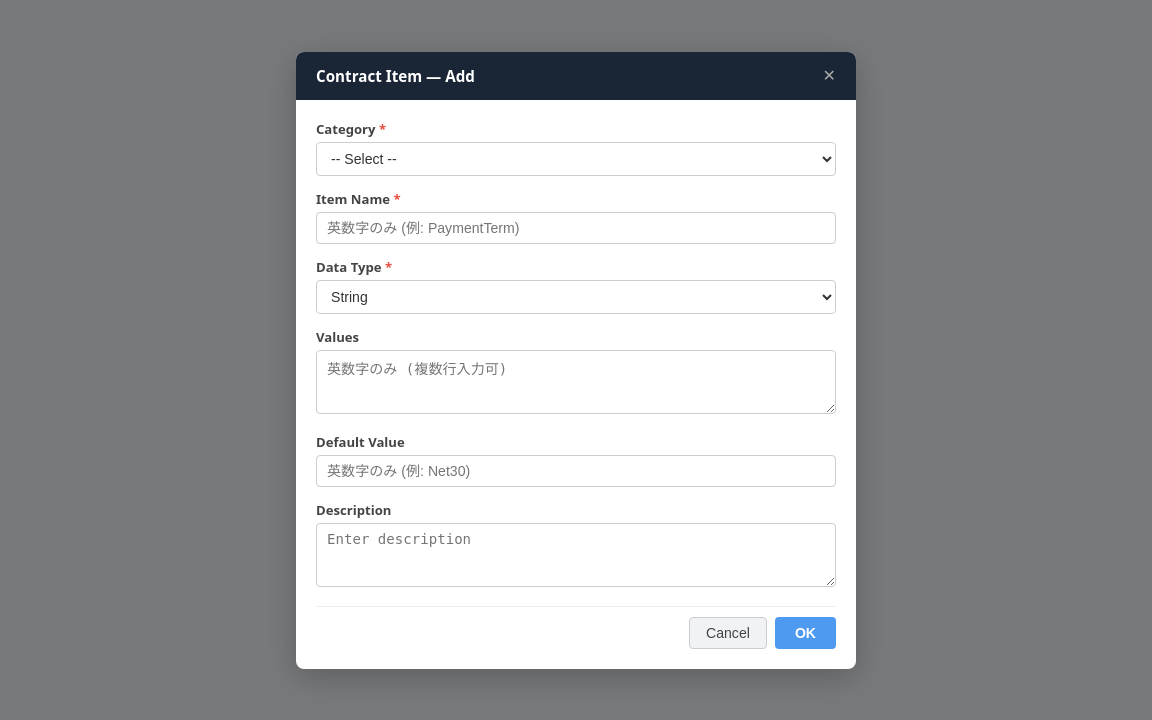
Scenario: ContractItemModal › shows required error for empty item name
The image size is (1152, 720).
Select "Contract" in the dropdown below "Category" at (576, 158), box [316,142,836,176]
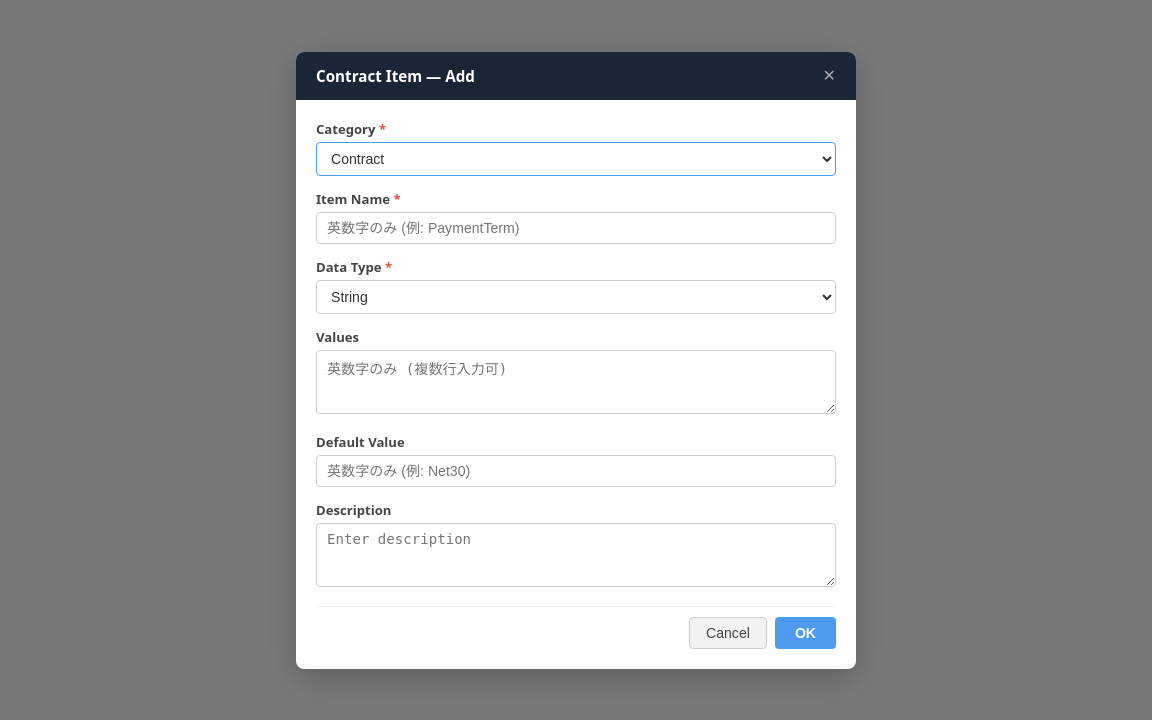
Click the button "OK".
click(805, 632)  # box [775,616,836,648]
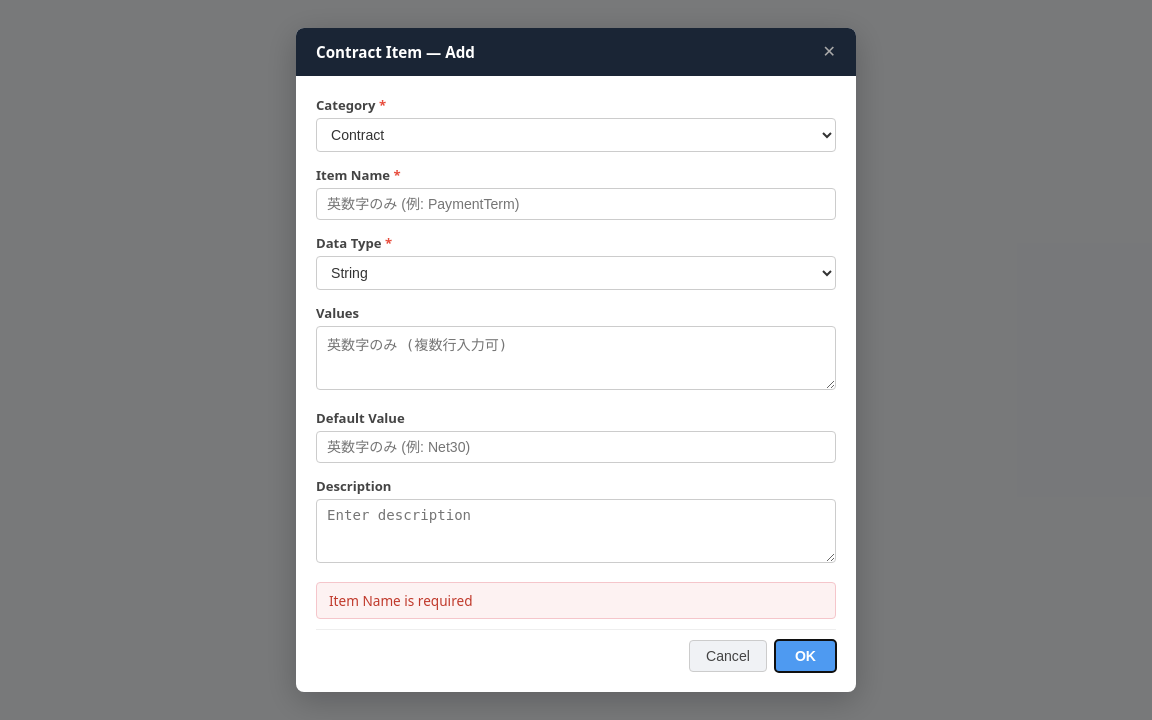
Check: the text "Item Name is required" is shown, box [316,582,836,619]
